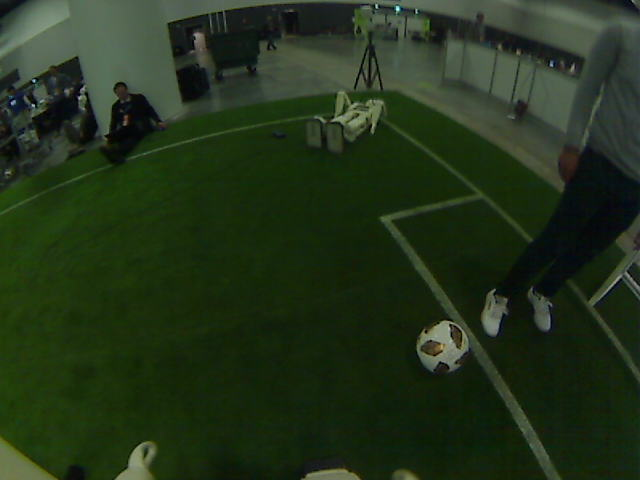ball: (423, 325, 463, 365)
goalpost: (574, 248, 614, 308)
robot: (307, 113, 343, 151)
